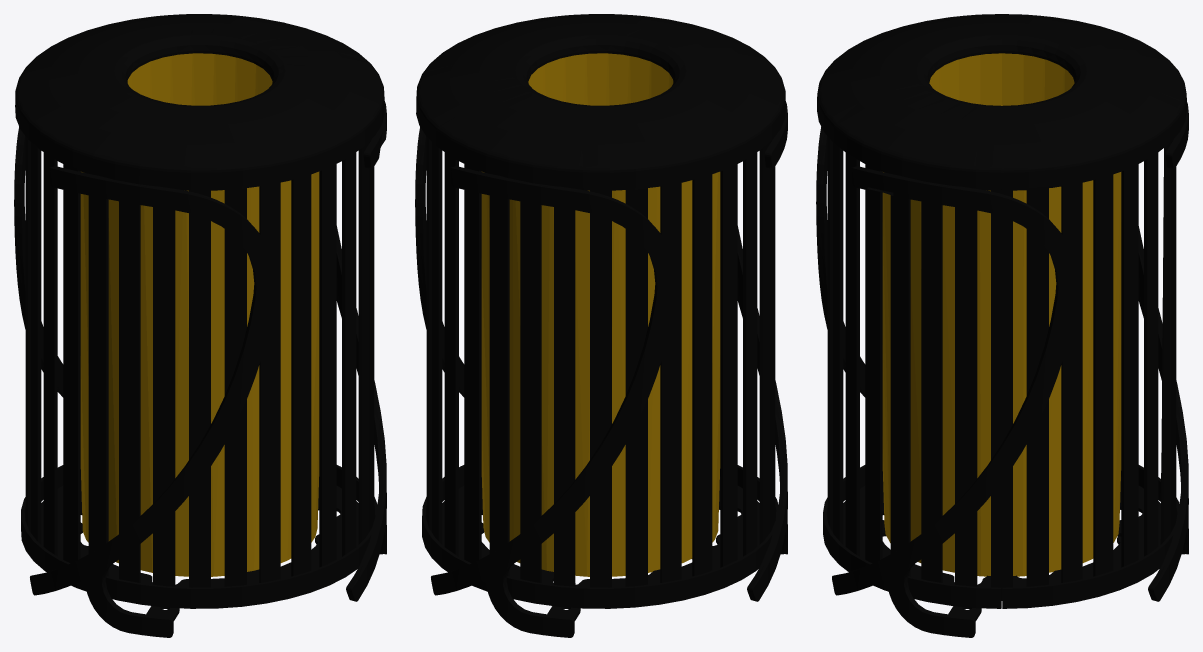
3 views of the same model, side by side, from view 1: azimuth 30°, elevation 25°; view 2: azimuth 150°, elevation 25°; view 3: azimuth 270°, elevation 25° (orthographic).
Visible parts, largest first — view 1: mesh1.002_mesh1-geometry, mesh10.002_mesh10-geometry, mesh37.005_mesh37-geometry, mesh40.040_mesh40-geometry, mesh40.044_mesh40-geometry, mesh40.045_mesh40-geometry, mesh40.043_mesh40-geometry, mesh35.003_mesh35-geometry, mesh40.046_mesh40-geometry, mesh40.041_mesh40-geometry, mesh40.042_mesh40-geometry, mesh40.039_mesh40-geometry (+10 smaller); view 2: mesh1.002_mesh1-geometry, mesh10.002_mesh10-geometry, mesh37.004_mesh37-geometry, mesh40.050_mesh40-geometry, mesh40.055_mesh40-geometry, mesh40.054_mesh40-geometry, mesh40.053_mesh40-geometry, mesh35.003_mesh35-geometry, mesh40.056_mesh40-geometry, mesh40.051_mesh40-geometry, mesh40.052_mesh40-geometry, mesh40.049_mesh40-geometry (+10 smaller); view 3: mesh1.002_mesh1-geometry, mesh10.002_mesh10-geometry, mesh37.006_mesh37-geometry, mesh40.060_mesh40-geometry, mesh40.034_mesh40-geometry, mesh40.035_mesh40-geometry, mesh40.033_mesh40-geometry, mesh35.003_mesh35-geometry, mesh40.036_mesh40-geometry, mesh40.031_mesh40-geometry, mesh40.032_mesh40-geometry, mesh40.059_mesh40-geometry (+10 smaller).
Part boxes in pixels (left/top/right/bottom): mesh1.002_mesh1-geometry: left=15, top=14, right=384, bottom=188; mesh10.002_mesh10-geometry: left=80, top=53, right=319, bottom=576; mesh37.005_mesh37-geometry: left=30, top=166, right=275, bottom=637; mesh40.040_mesh40-geometry: left=291, top=174, right=311, bottom=576; mesh40.044_mesh40-geometry: left=153, top=207, right=175, bottom=586; mesh40.045_mesh40-geometry: left=119, top=201, right=140, bottom=582; mesh40.043_mesh40-geometry: left=189, top=190, right=210, bottom=587; mesh35.003_mesh35-geometry: left=21, top=465, right=377, bottom=608; mesh40.046_mesh40-geometry: left=88, top=195, right=108, bottom=576; mesh40.041_mesh40-geometry: left=259, top=182, right=280, bottom=582; mesh40.042_mesh40-geometry: left=224, top=188, right=246, bottom=586; mesh40.039_mesh40-geometry: left=319, top=164, right=336, bottom=567; mesh1.002_mesh1-geometry: left=416, top=14, right=785, bottom=188; mesh10.002_mesh10-geometry: left=481, top=53, right=720, bottom=576; mesh37.004_mesh37-geometry: left=431, top=166, right=676, bottom=637; mesh40.050_mesh40-geometry: left=692, top=174, right=712, bottom=576; mesh40.055_mesh40-geometry: left=520, top=201, right=541, bottom=582; mesh40.054_mesh40-geometry: left=554, top=207, right=575, bottom=586; mesh40.053_mesh40-geometry: left=590, top=190, right=611, bottom=587; mesh35.003_mesh35-geometry: left=422, top=465, right=778, bottom=608; mesh40.056_mesh40-geometry: left=489, top=195, right=509, bottom=576; mesh40.051_mesh40-geometry: left=660, top=182, right=681, bottom=582; mesh40.052_mesh40-geometry: left=625, top=188, right=647, bottom=586; mesh40.049_mesh40-geometry: left=720, top=164, right=737, bottom=567; mesh1.002_mesh1-geometry: left=817, top=14, right=1186, bottom=188; mesh10.002_mesh10-geometry: left=882, top=53, right=1121, bottom=576; mesh37.006_mesh37-geometry: left=832, top=166, right=1077, bottom=637; mesh40.060_mesh40-geometry: left=1093, top=174, right=1113, bottom=576; mesh40.034_mesh40-geometry: left=955, top=207, right=977, bottom=586; mesh40.035_mesh40-geometry: left=921, top=201, right=942, bottom=582; mesh40.033_mesh40-geometry: left=991, top=189, right=1012, bottom=599; mesh35.003_mesh35-geometry: left=823, top=465, right=1179, bottom=608; mesh40.036_mesh40-geometry: left=890, top=195, right=910, bottom=576; mesh40.031_mesh40-geometry: left=1061, top=182, right=1082, bottom=582; mesh40.032_mesh40-geometry: left=1026, top=188, right=1048, bottom=586; mesh40.059_mesh40-geometry: left=1121, top=164, right=1138, bottom=567.
Size of the model in its own units: 0.4951 by 0.7149 by 0.4937.
